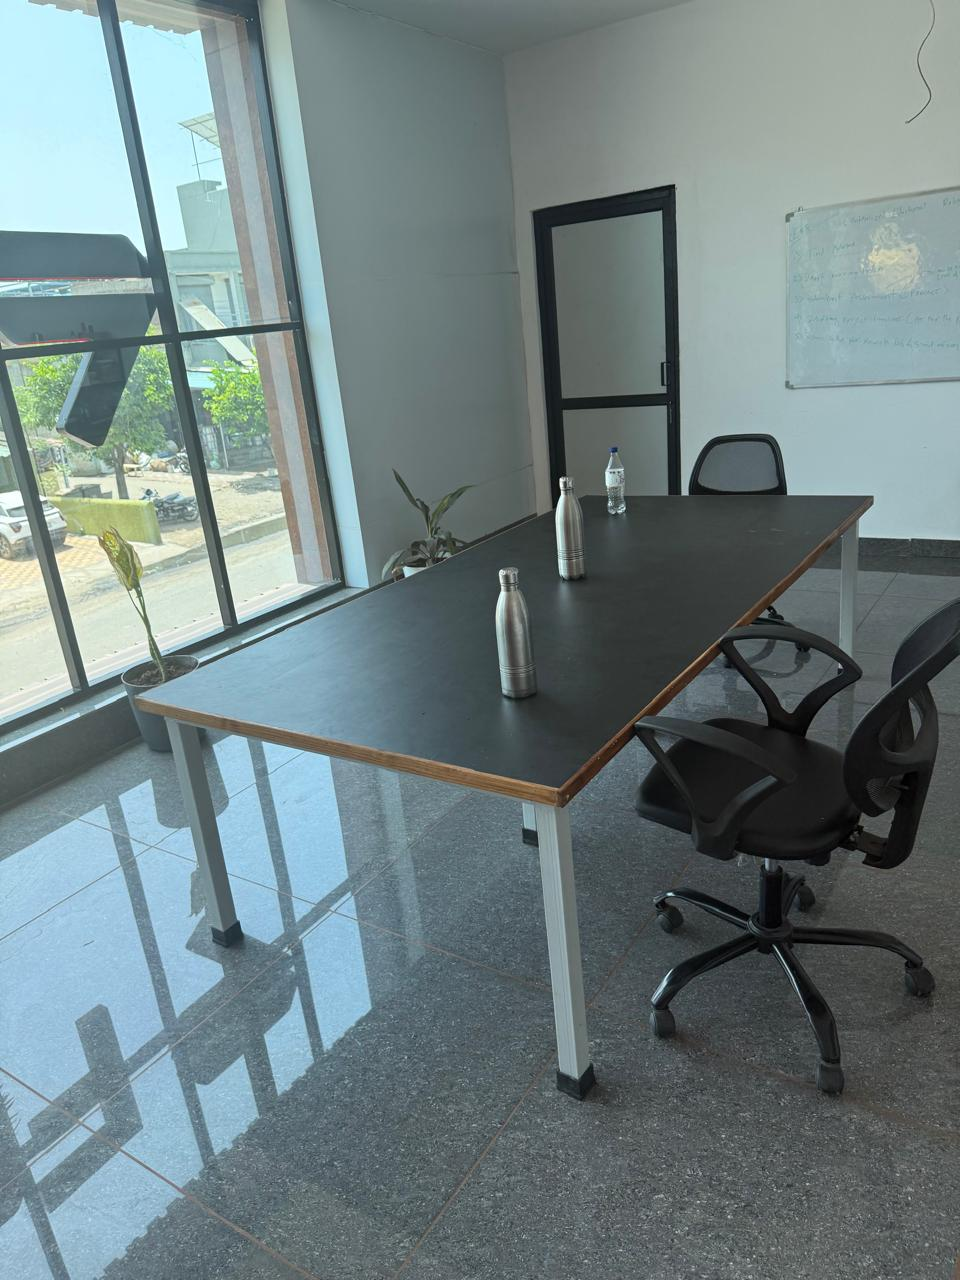bottle_on_table: (583, 411, 699, 531), (471, 554, 548, 711), (536, 471, 610, 592)
